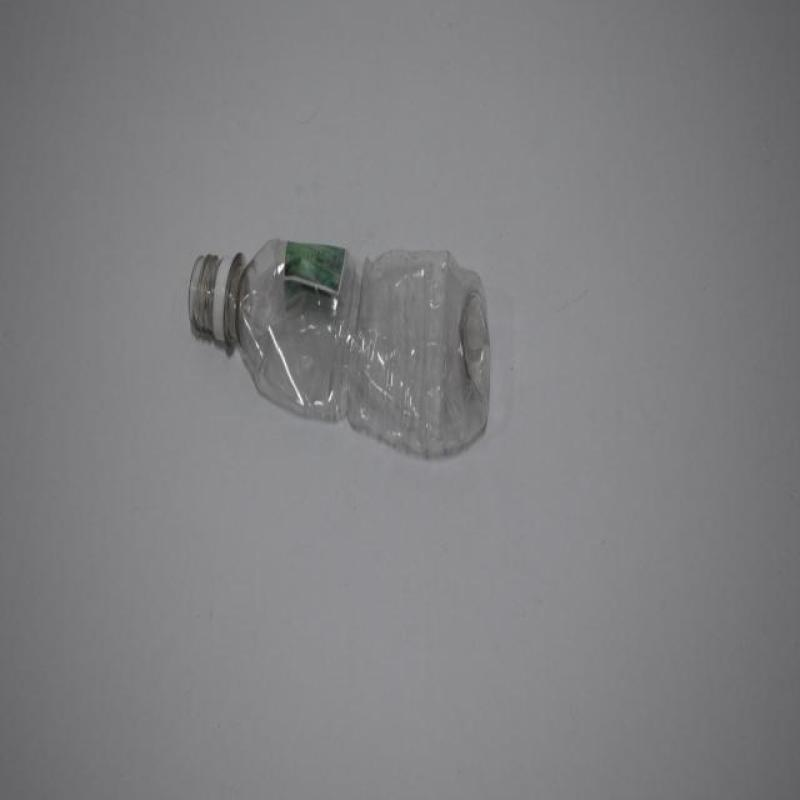botella: (185, 239, 491, 457)
